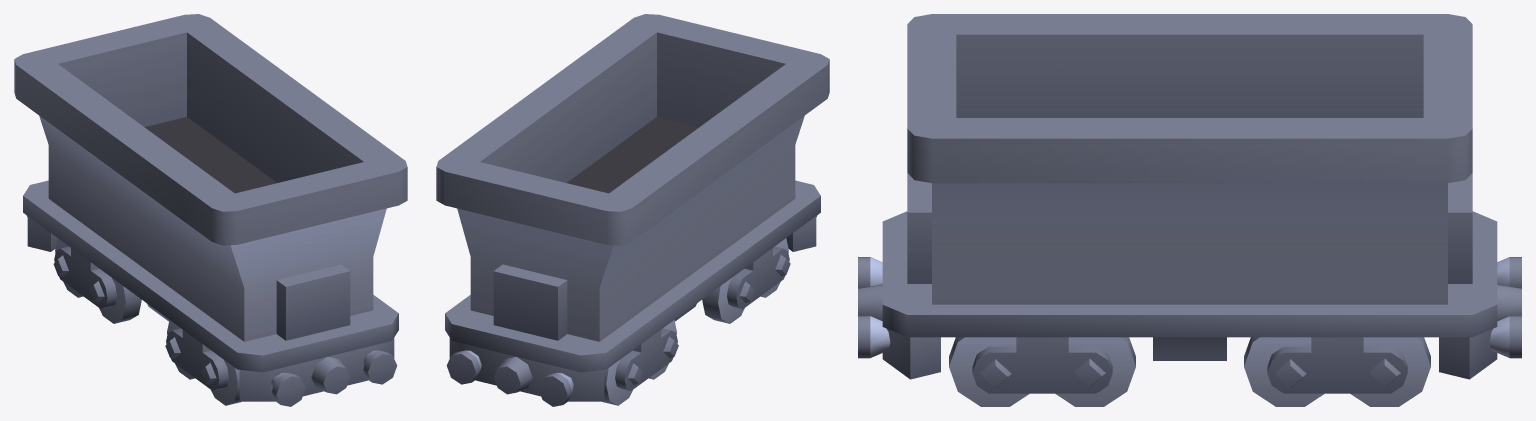
Rendered from train-wag1.glb.
The picture shows the model from 3 angles, left to right: view 1: azimuth 30°, elevation 25°; view 2: azimuth 150°, elevation 25°; view 3: azimuth 270°, elevation 25°; orthographic projection. The views are drawn at different scales.
Visible parts, largest first — view 1: train-carriage-box; view 2: train-carriage-box; view 3: train-carriage-box.
Part boxes in pixels (<box>): train-carriage-box: <box>14,14,407,406</box>; train-carriage-box: <box>436,14,829,406</box>; train-carriage-box: <box>858,14,1521,406</box>.
Bounding box in the file's own units: 1.2 × 1.3 × 2.7.
1 material, 1 textured.
